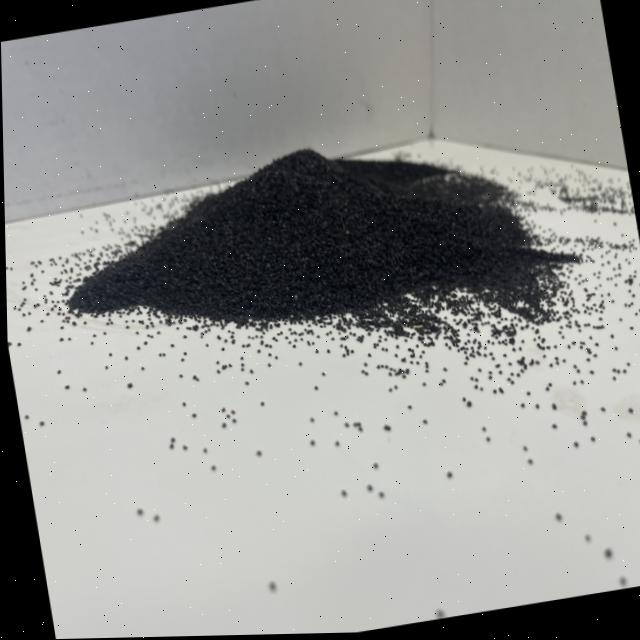Poppy Seeds: (38, 56, 587, 426)
